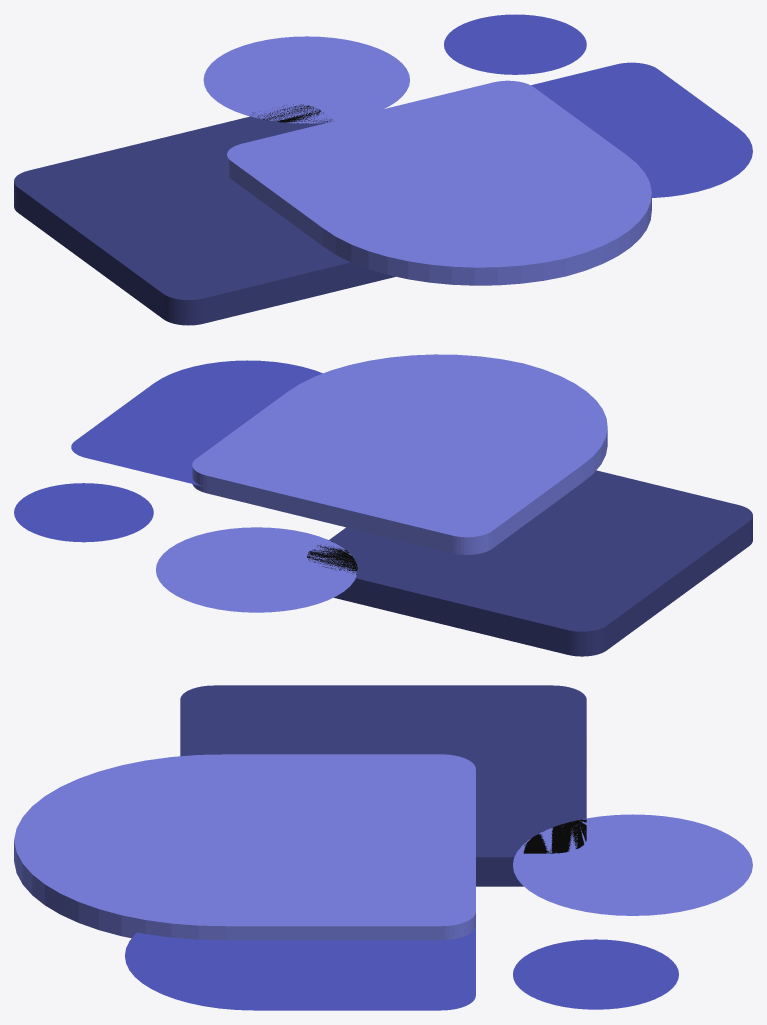
File: teams.fbx
3 renders of one model, top to bottom at view 1: azimuth 30°, elevation 25°; view 2: azimuth 150°, elevation 25°; view 3: azimuth 270°, elevation 25°, orthographic. The views are drawn at different scales.
Visible parts, largest first — view 1: Curve.009, Curve.018, Curve.006, Curve.008, Curve.007, Curve.017; view 2: Curve.009, Curve.018, Curve.006, Curve.008, Curve.007, Curve.017; view 3: Curve.009, Curve.018, Curve.006, Curve.008, Curve.007, Curve.017.
Boxes of the visible parts, bbox=[...] form: Curve.009: bbox=[227, 80, 651, 285]; Curve.018: bbox=[14, 116, 395, 325]; Curve.006: bbox=[531, 62, 752, 197]; Curve.008: bbox=[203, 36, 409, 123]; Curve.007: bbox=[444, 14, 586, 74]; Curve.017: bbox=[252, 104, 332, 123]; Curve.009: bbox=[192, 354, 607, 554]; Curve.018: bbox=[329, 470, 752, 656]; Curve.006: bbox=[71, 360, 322, 486]; Curve.008: bbox=[156, 527, 357, 612]; Curve.007: bbox=[14, 483, 153, 542]; Curve.017: bbox=[307, 541, 357, 574]; Curve.009: bbox=[14, 754, 475, 940]; Curve.018: bbox=[180, 685, 586, 886]; Curve.006: bbox=[125, 926, 475, 1010]; Curve.008: bbox=[513, 814, 752, 915]; Curve.007: bbox=[513, 939, 678, 1009]; Curve.017: bbox=[523, 818, 586, 853].
Bounding box in the file's own units: 62.9 × 5.45 × 58.5.
